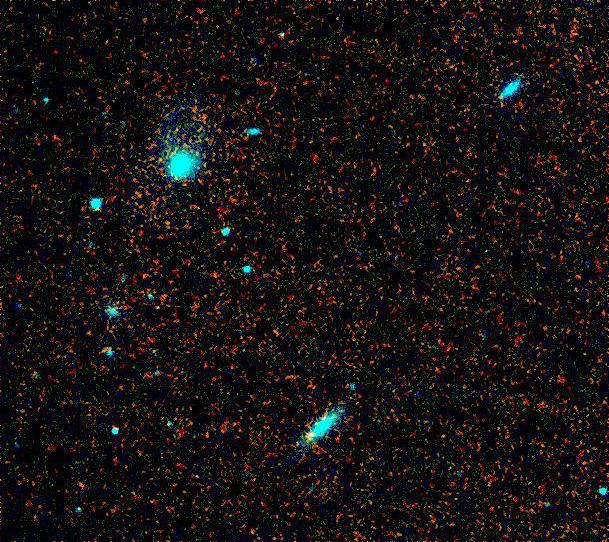star: (289, 425, 319, 455)
